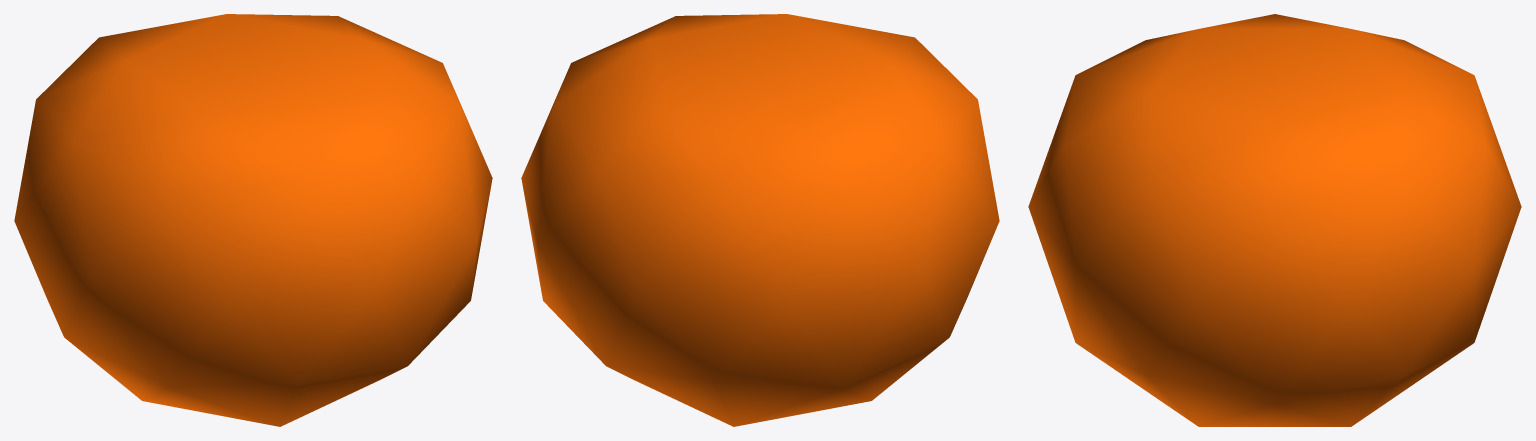
The model's file is lilyParticle.fbx.
The picture shows the model from 3 angles, left to right: view 1: azimuth 30°, elevation 25°; view 2: azimuth 150°, elevation 25°; view 3: azimuth 270°, elevation 25°; orthographic projection.
Visible parts, largest first — view 1: lilyParticle; view 2: lilyParticle; view 3: lilyParticle.
Boxes of the visible parts, x1,y1,x2,y2 form: lilyParticle: (14, 14, 492, 426); lilyParticle: (521, 14, 999, 426); lilyParticle: (1028, 14, 1521, 426).
Size of the model in its own units: 23.44 by 18.76 by 24.65.
